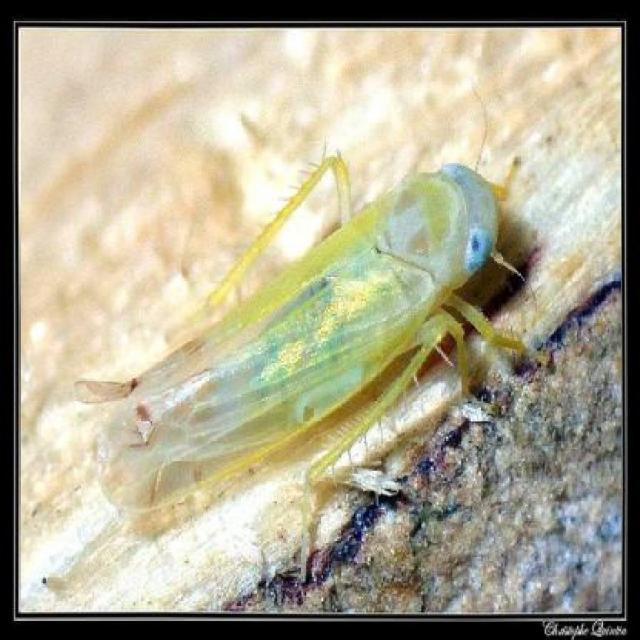green-leafhopper: (97, 171, 515, 520)
